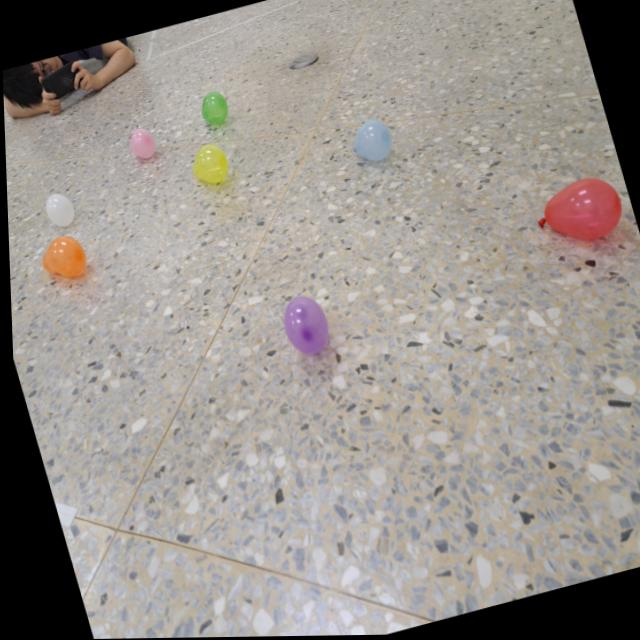other: (274, 290, 334, 363), (32, 231, 88, 285), (345, 116, 396, 168), (184, 137, 231, 190), (194, 86, 232, 129), (39, 189, 75, 228), (123, 123, 157, 164)
red: (526, 171, 629, 254)
